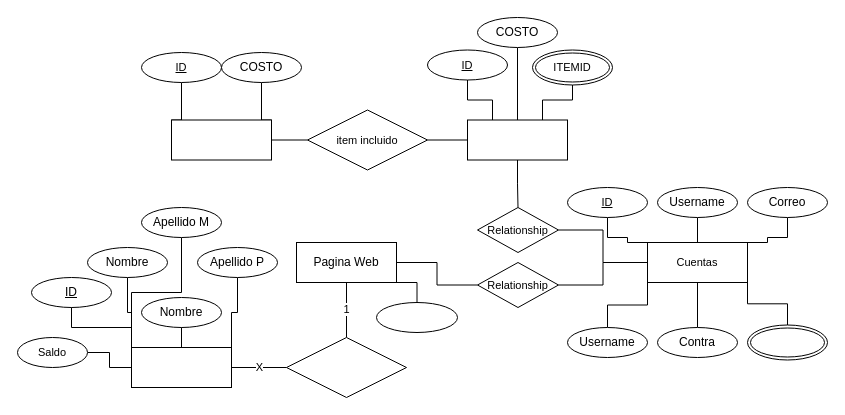
The diagram is 845 pixels wide and 415 high, and some of its shapes have lost their labels. Each missing label, with the centre of its shape:
Bolsa de items: point 517,139
Cliente: point 181,367
COMPRA: point 346,367
Historial: point 787,342
ID ADMIN: point 417,317
ITEMS: point 221,139
